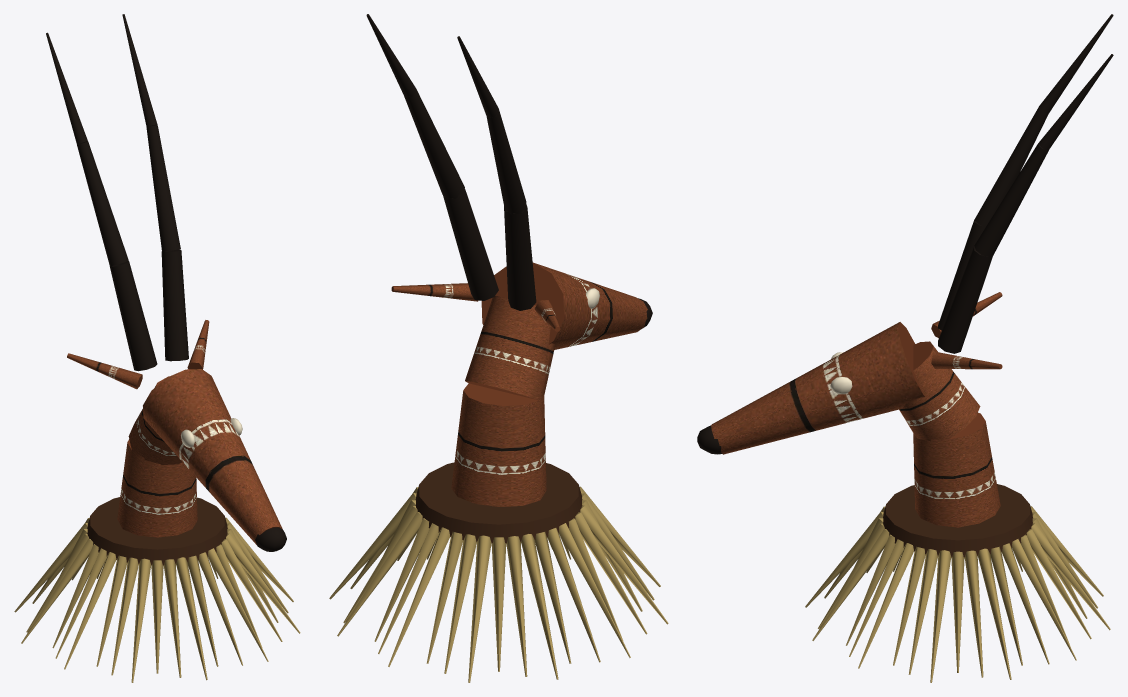
File: adone.glb
3 renders of one model, left to right at view 1: azimuth 30°, elevation 25°; view 2: azimuth 150°, elevation 25°; view 3: azimuth 270°, elevation 25°, orthographic. The views are drawn at different scales.
Visible parts, largest first — view 1: adone; view 2: adone; view 3: adone.
Boxes of the visible parts, x1=… form: adone: x1=14, y1=14, x2=300, y2=682; adone: x1=329, y1=14, x2=668, y2=682; adone: x1=697, y1=14, x2=1113, y2=682.
Bounding box in the file's own units: 0.7122 × 1.5 × 0.9696.
Materials: 6 (1 with a texture image).
